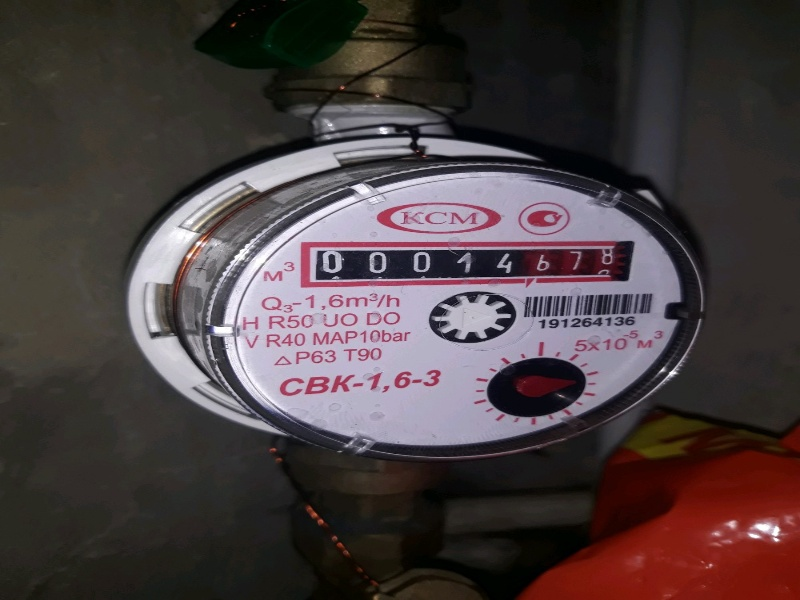meter: (298, 236, 647, 287)
